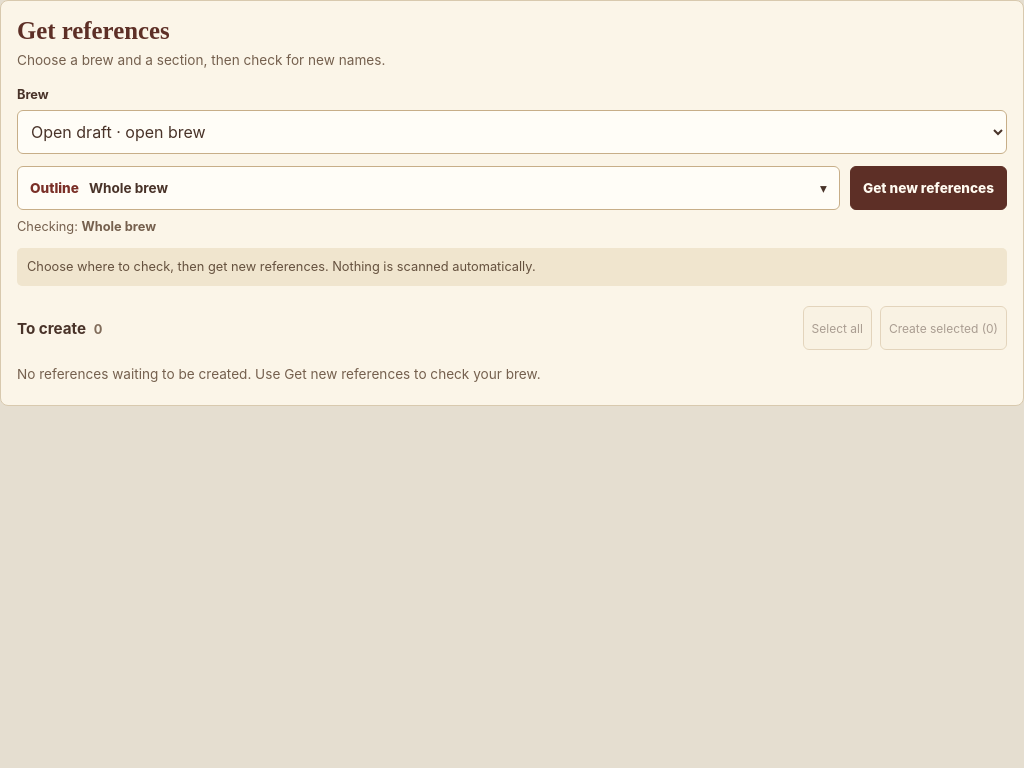
Test: BrewReferenceScanner › does not silently widen the scope when a chosen heading is removed
This screenshot has width=1024, height=768.
Click the button "Outline Whole brew ▾" at (54, 188), box 17,166 -> 840,210
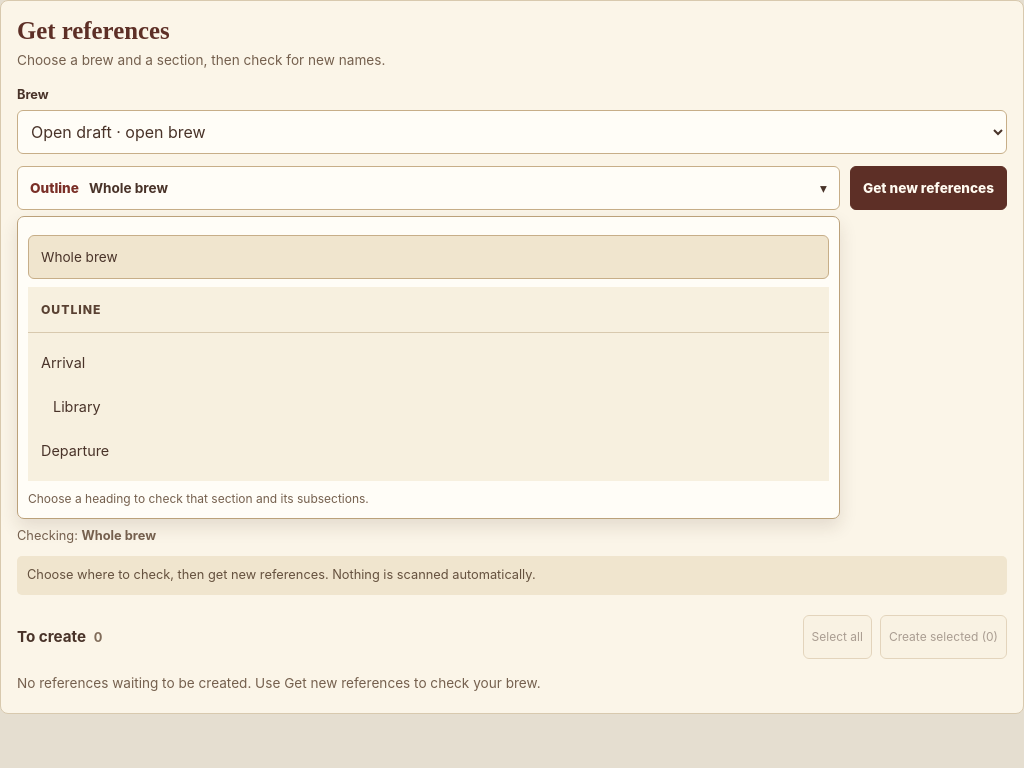
Click the button with class "outline-item" showing "Library" at (77, 407), box 28,385 -> 829,429
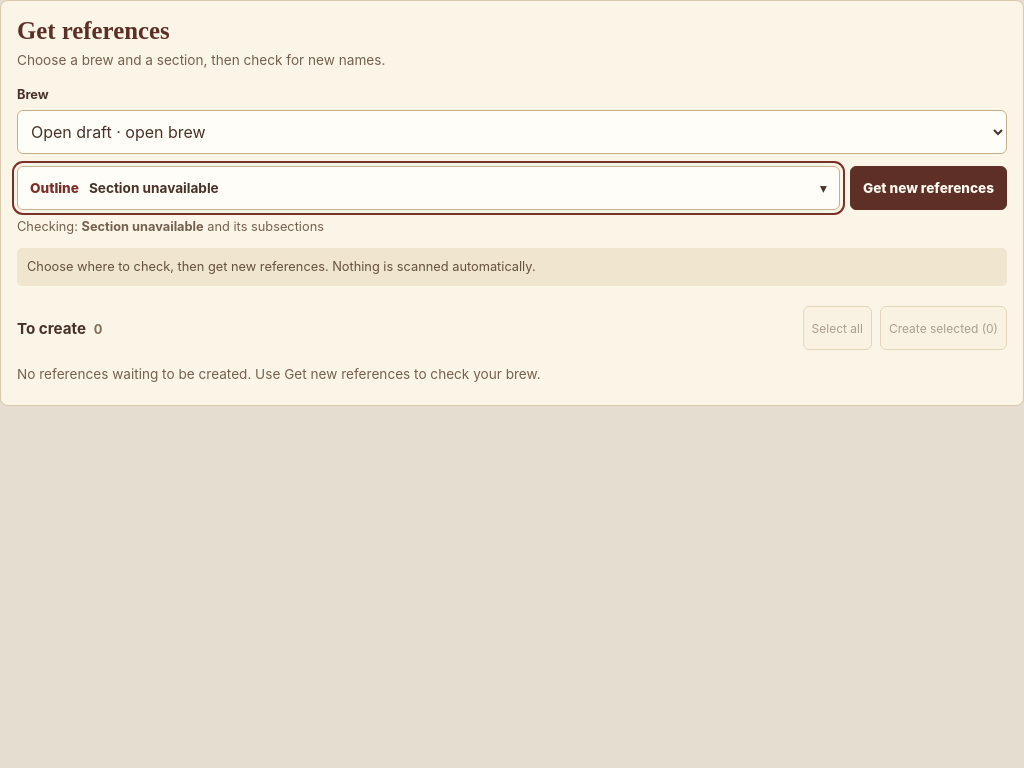
Click the button "Get new references" at (928, 188), box 850,166 -> 1007,210
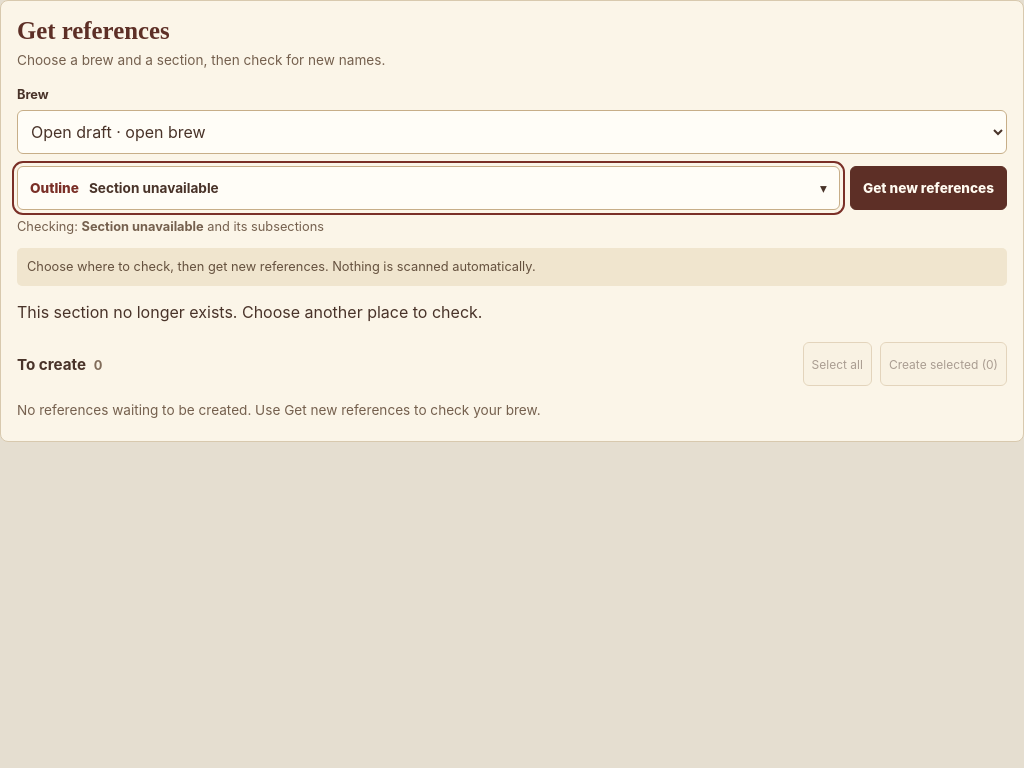
Expected: the message "This section no longer exists. Choose another place to check." is shown, 17,302 -> 482,322
